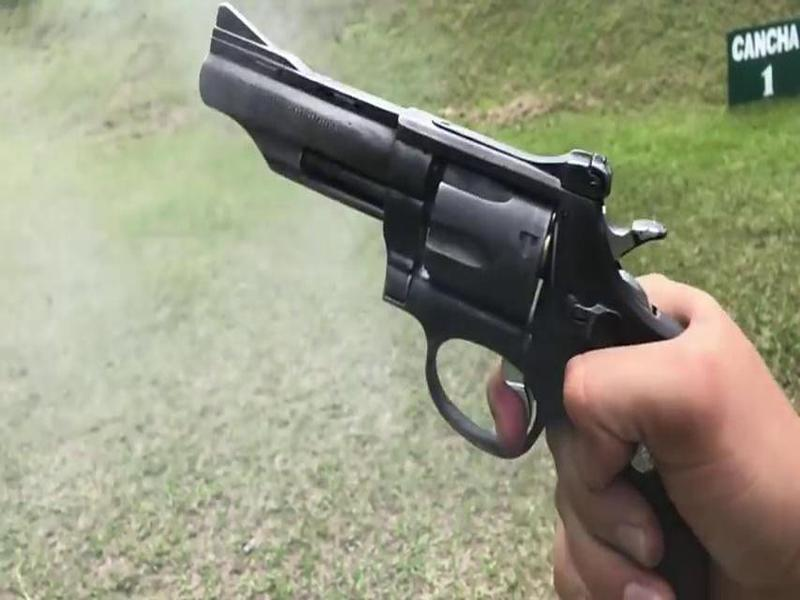Revolver: (167, 3, 696, 481)
